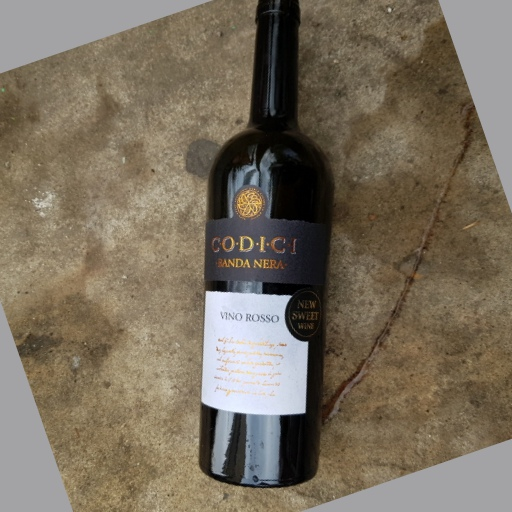Glass_2: (196, 1, 340, 486)
